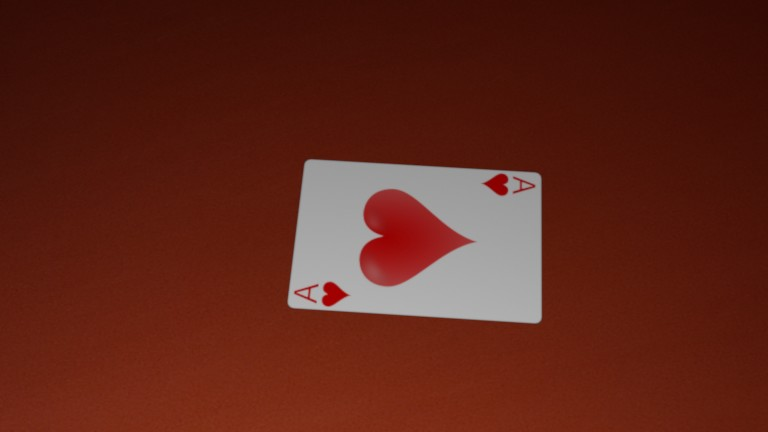ace_of_hearts: (292, 277, 353, 310), (481, 171, 537, 200)
